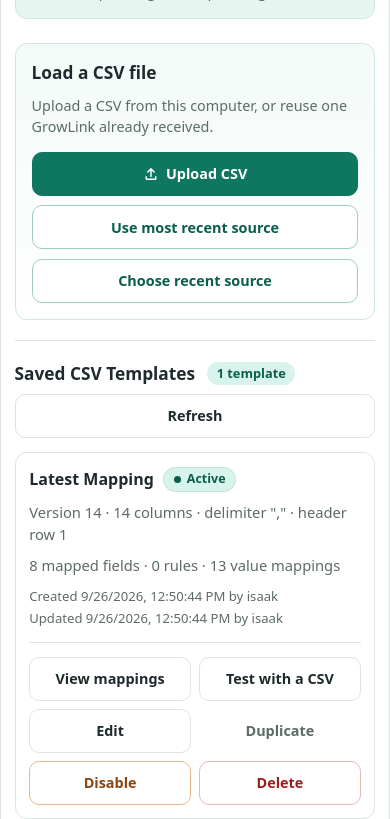
Test: CSV Templates page — Saved CSV Templates › Edit switches the Load section into editing mode with a Cancel editing action
(page scrolled)
Expected: the heading "Latest Mapping" is shown, [29,468,154,491]
Click the button "Edit".
click(110, 730)  # box [29,708,191,752]
(page scrolled)
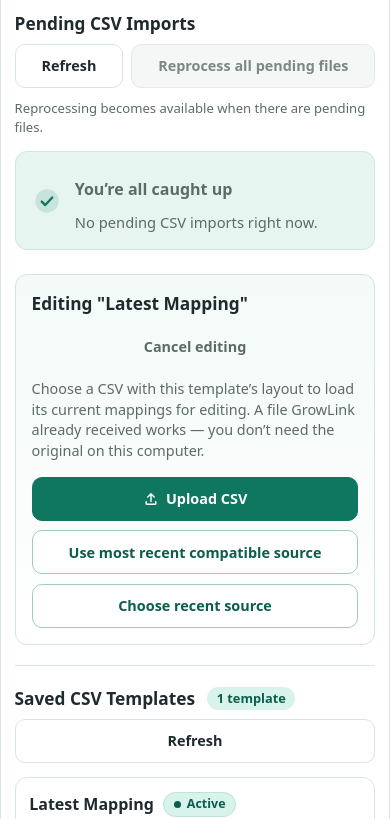
Click the button "Cancel editing".
click(195, 346)  # box [32,324,358,368]
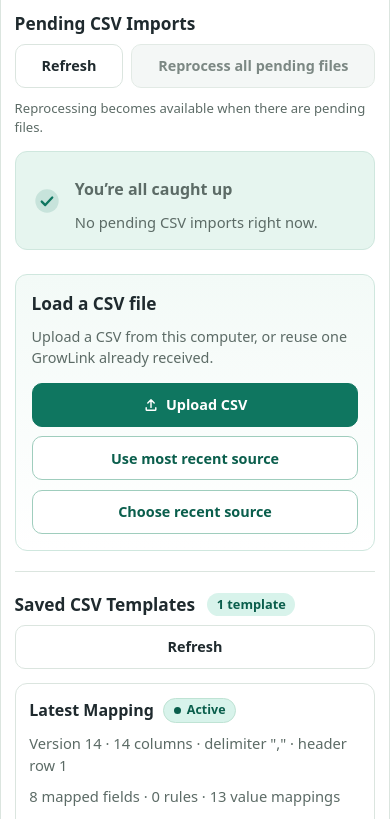
Now the element "Load a CSV file" is shown, box [15,274,375,551]
